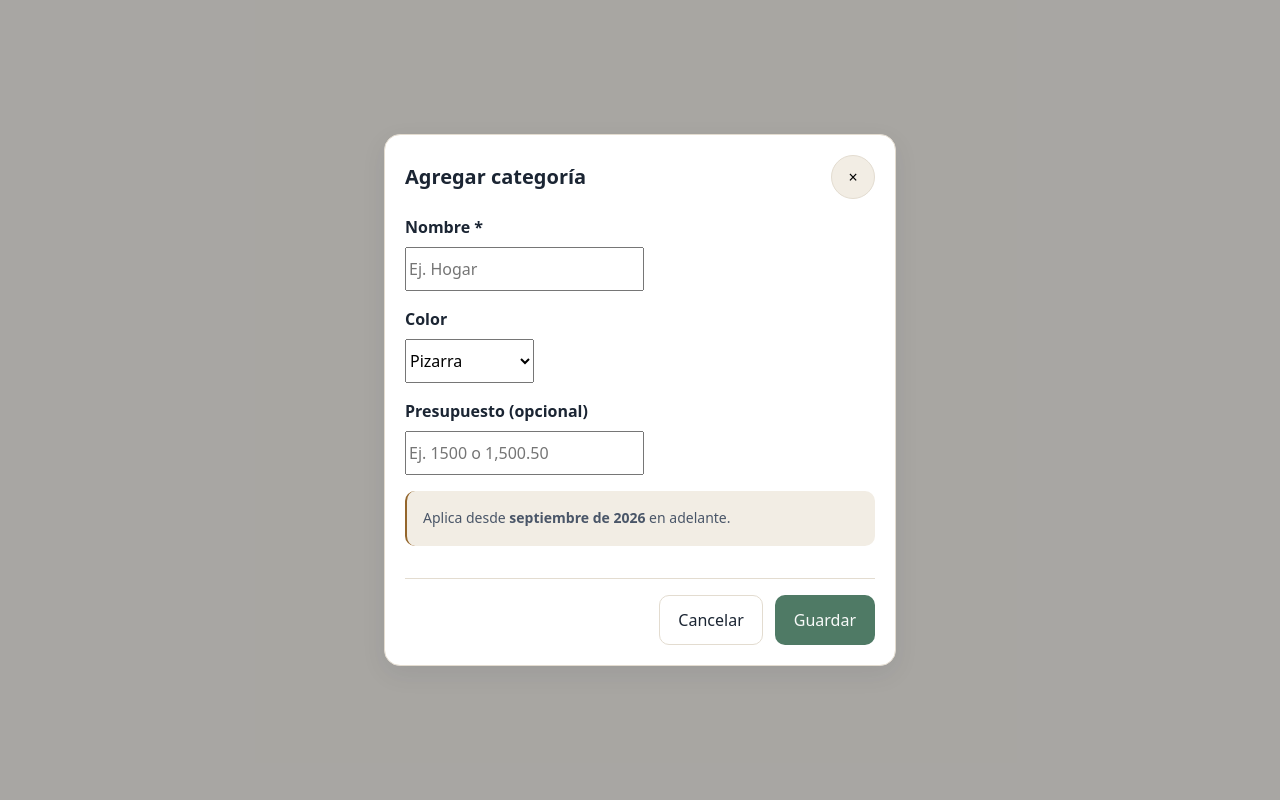
CategoriaForm › validates empty name
This screenshot has width=1280, height=800.
What coordinates should you click on to do the following:
click the button "Guardar"
I would click on:
 (825, 620)
Its box is [775,595,875,645].
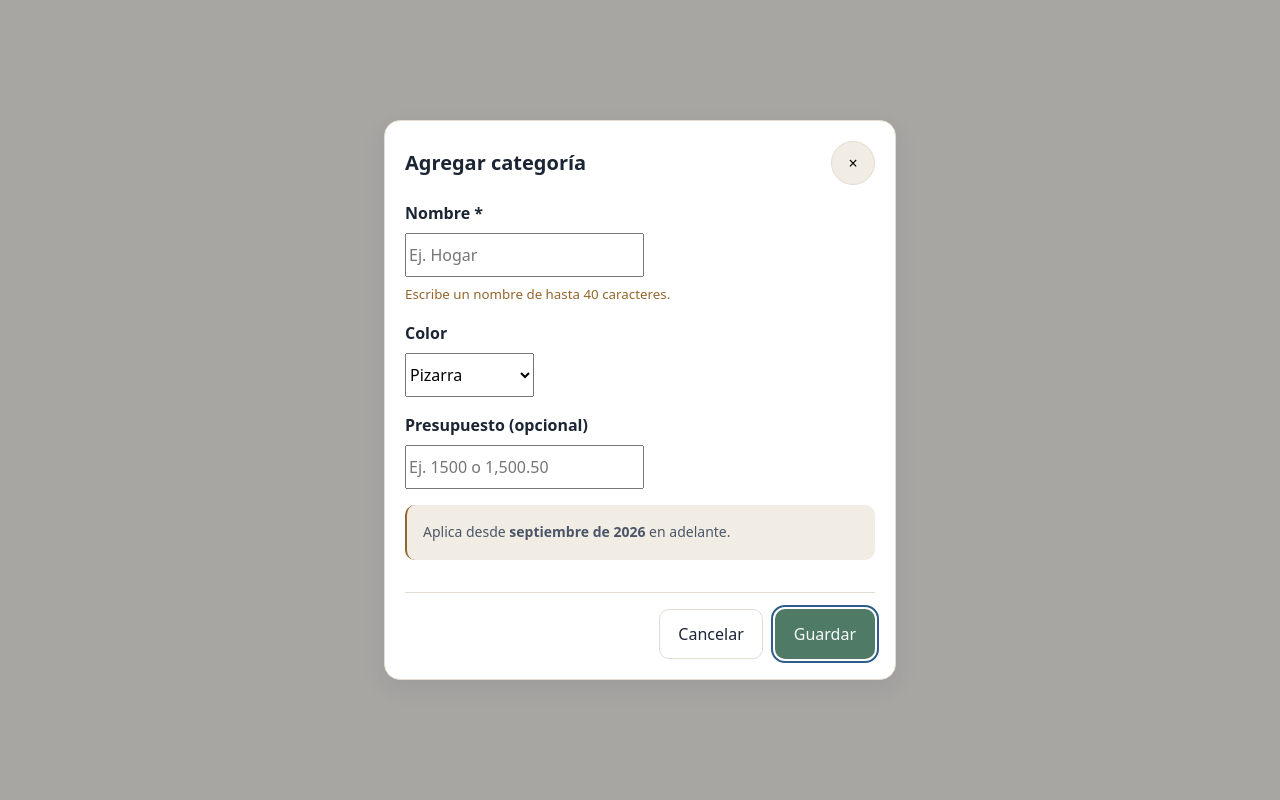
Now the text "Escribe un nombre de hasta 40 caracteres." is shown, box [405,285,670,303]
